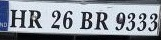character: (9, 8, 27, 29), (26, 9, 43, 29), (93, 10, 108, 31), (78, 10, 93, 29), (50, 9, 61, 29), (61, 9, 72, 29), (114, 11, 125, 31), (136, 11, 147, 31), (147, 12, 158, 31), (125, 11, 135, 31)
